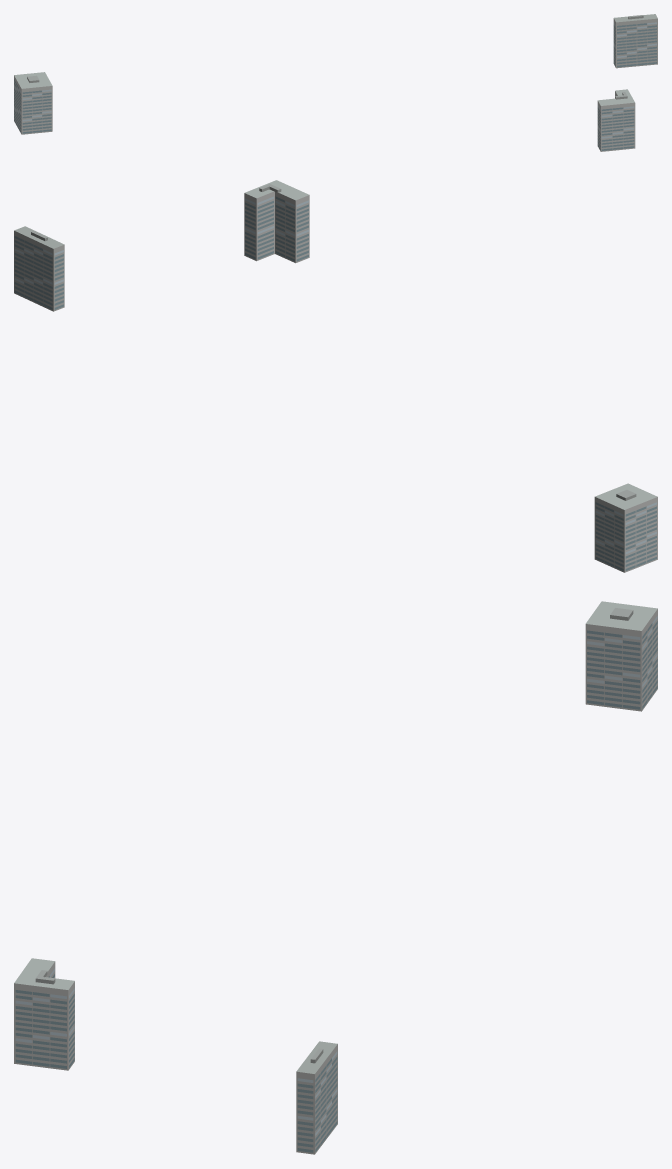
Rendered from apt-a10021122.glb.
3 views of the same model, one above another, from view 1: azimuth 30°, elevation 25°; view 2: azimuth 150°, elevation 25°; view 3: azimuth 270°, elevation 25° (orthographic). The views are drawn at different scales.
Visible parts, largest first — view 1: apt-a10021122; view 2: apt-a10021122; view 3: apt-a10021122.
Part boxes in pixels (<box>): apt-a10021122: <box>14,14,657,151</box>; apt-a10021122: <box>14,180,657,572</box>; apt-a10021122: <box>14,601,657,1154</box>.
Bounding box in the file's own units: 576 × 47.81 × 332.
